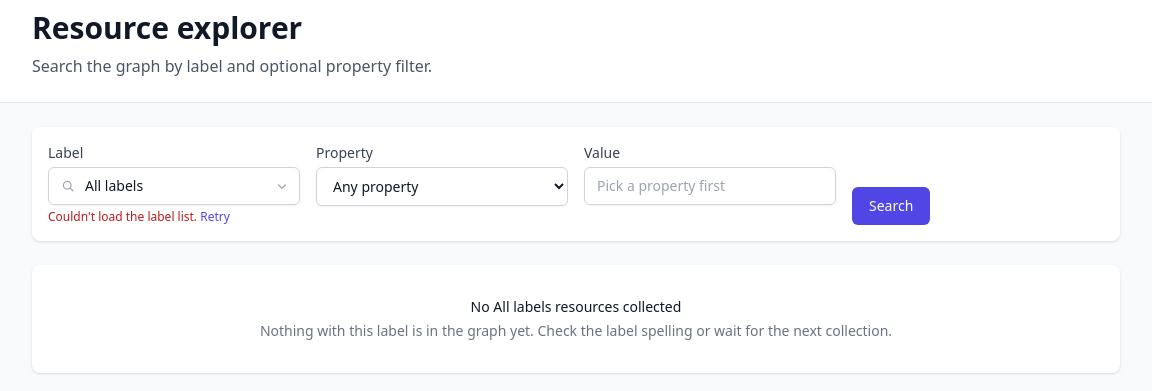
Test: ResourcesPage search › says when the label list fails to load and retries on request
This screenshot has width=1152, height=391.
Check: the text "Couldn't load the label list. Retry" is shown, box [48,208,230,225]
Click the button "Retry" at [215, 217], box [200,209,230,225]
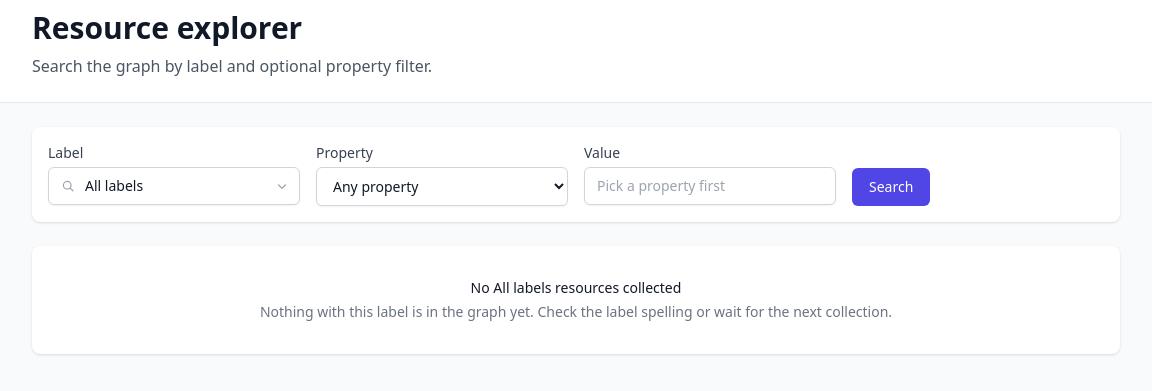
Click the dropdown labelled "Label" at [174, 186], box [48,167,300,205]
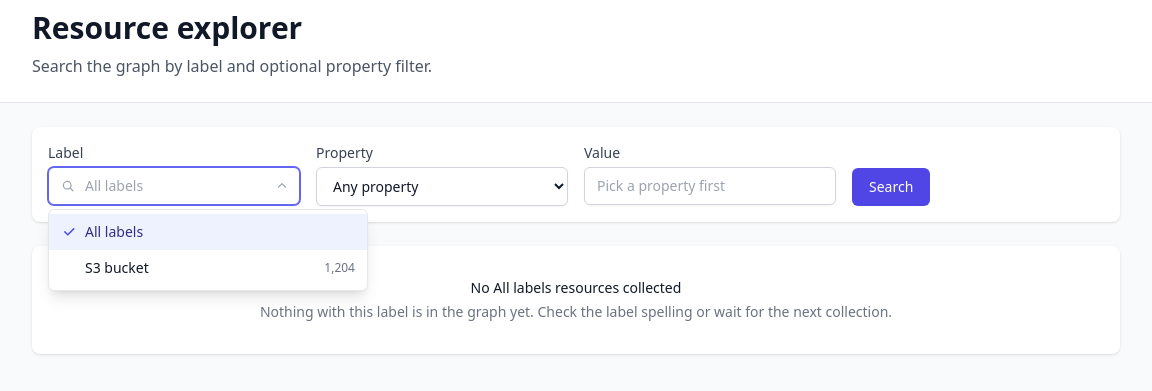
Check: the option with aria-label "S3 bucket (1,204)" is shown, box [85,258,355,277]
